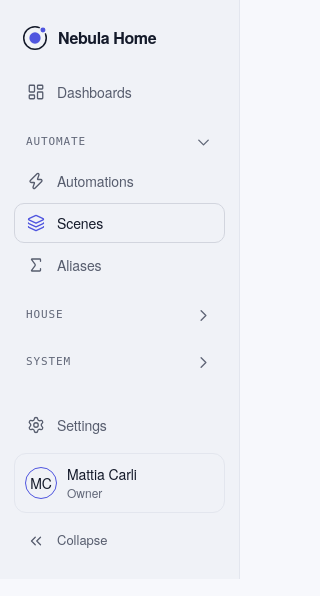
Sidebar › opens one group at a time
The image size is (320, 596).
Click the button "House". click: (120, 315)
box: 14,298 -> 225,332
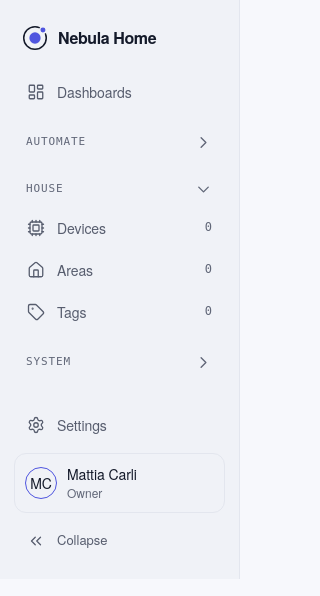
Now the button "House" is expanded, box 14,172 -> 225,206
Now the button "Automate" is collapsed, box 14,125 -> 225,159
